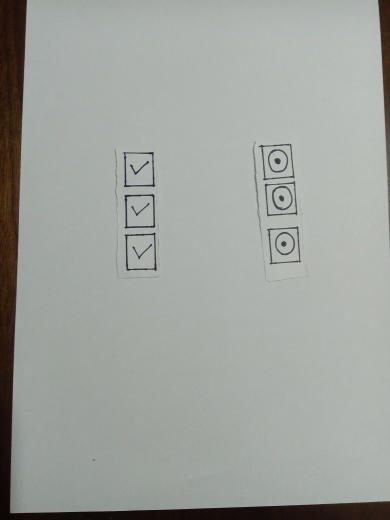checkbox: (125, 154, 154, 188), (127, 235, 156, 269), (127, 193, 156, 227)
radio: (258, 146, 295, 179), (265, 227, 302, 260), (262, 184, 299, 217)
